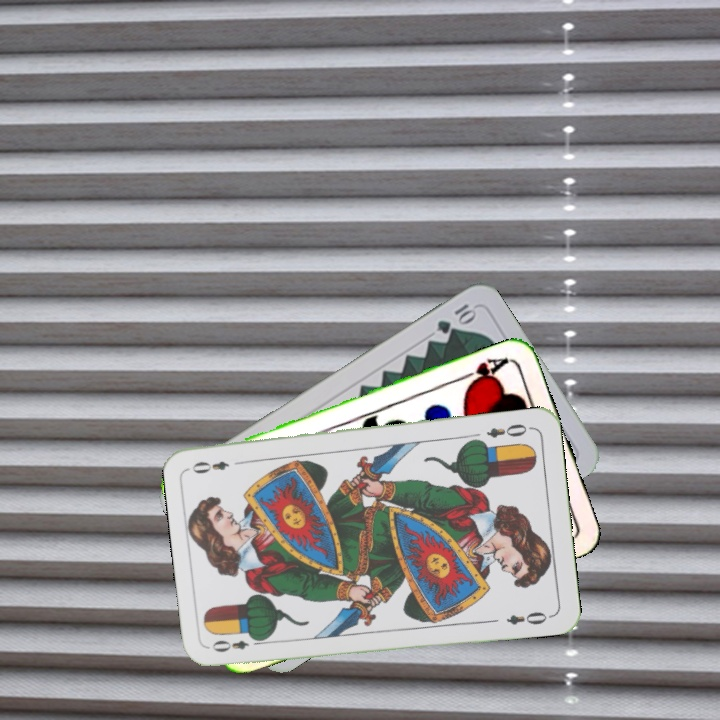EO: (208, 632, 266, 655), (482, 419, 534, 440)
G10: (432, 299, 479, 337)
HA: (455, 353, 513, 390)
